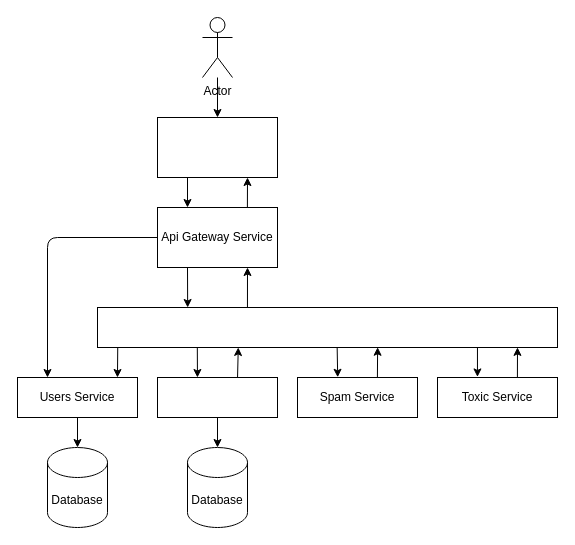
Some shapes in this 575 by 545 pixel diagram are drawn without their labels. Here are the shapes that lost their labels. From the top down, the centre of each, then its label:
the point at 217,147: Front Service
the point at 327,327: Kafka
the point at 217,397: Message Service
